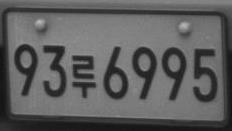3: (42, 44, 66, 97)
5: (192, 47, 218, 102)
6: (102, 46, 129, 99)
9: (161, 46, 187, 100), (13, 43, 38, 95), (132, 46, 157, 98)
루: (71, 54, 96, 97)
